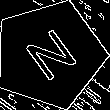N_SE: (17, 22, 82, 87)
